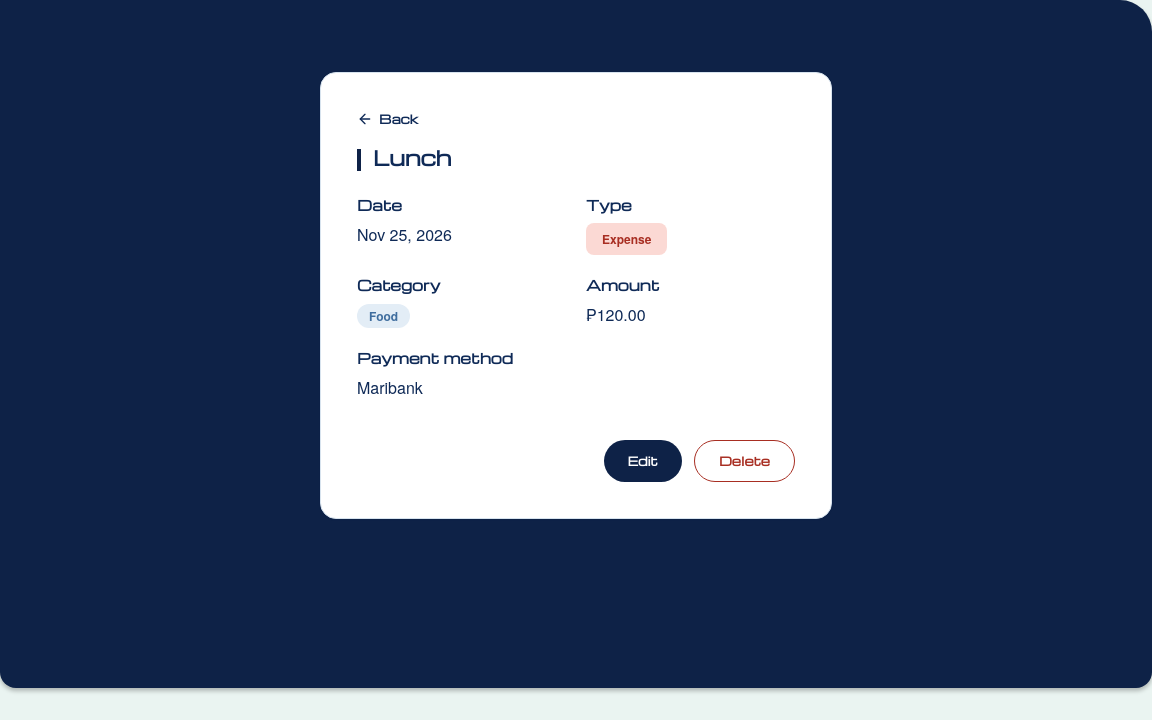
TransactionDetail › never shows the not found message while deleting
Click the button "Delete": (744,461) [694,440,795,482]
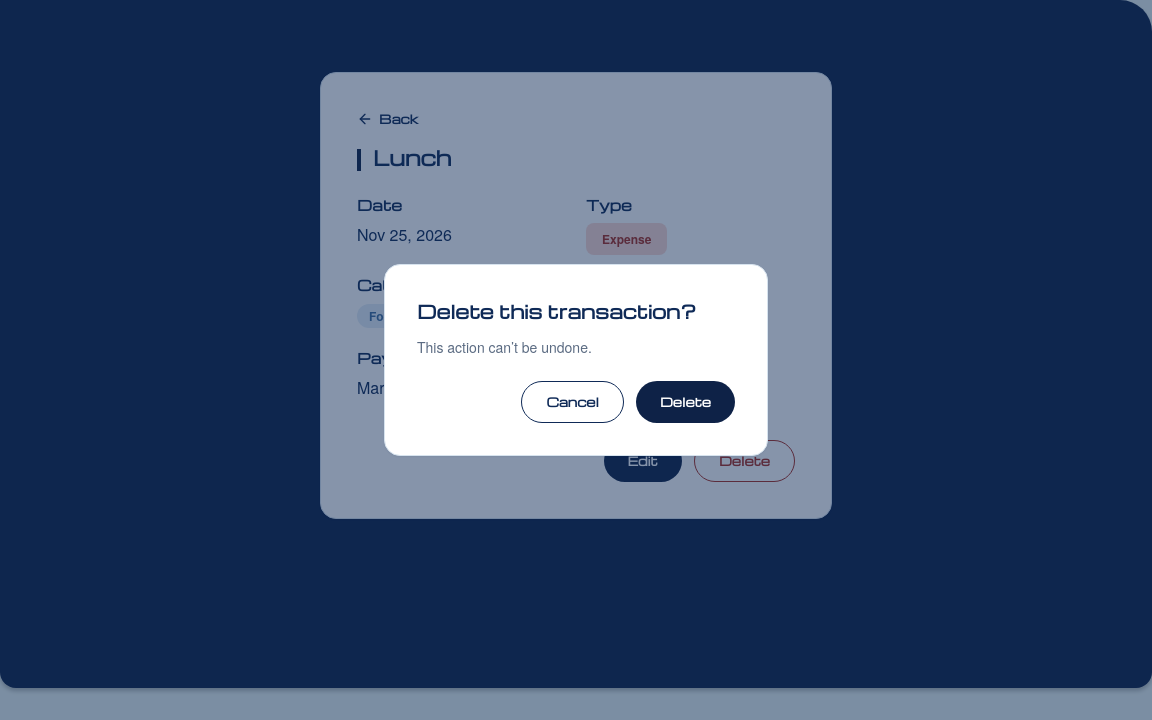
// The confirm button inside the dialog comes first in the document.
Click the button "Delete": (685,402) [636,381,735,423]
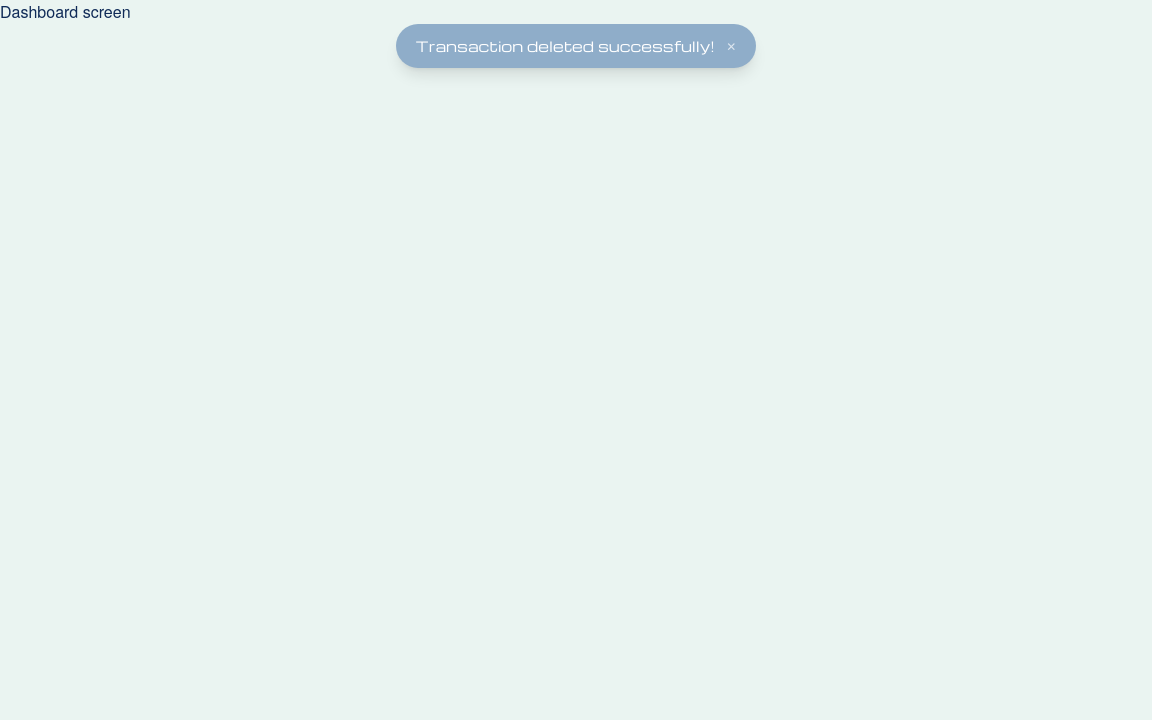
Result: the text "Dashboard screen" is shown at [0,0,131,23]
